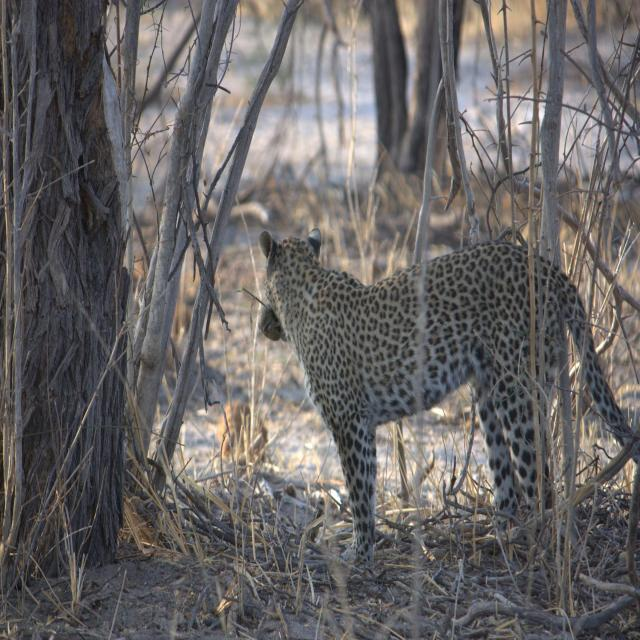Leopard: (257, 216, 640, 575)
